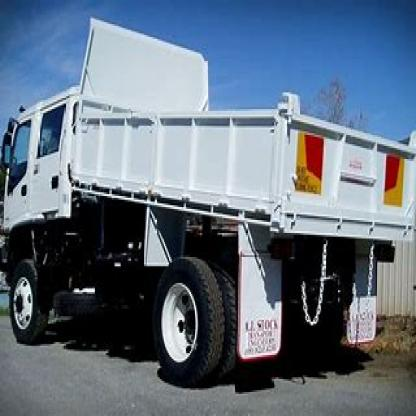dump_truck: (2, 15, 410, 388)
